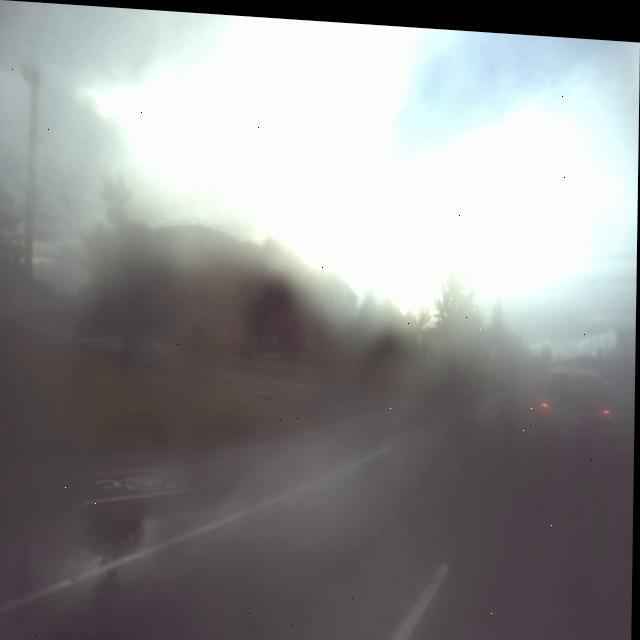car: (534, 348, 623, 462)
